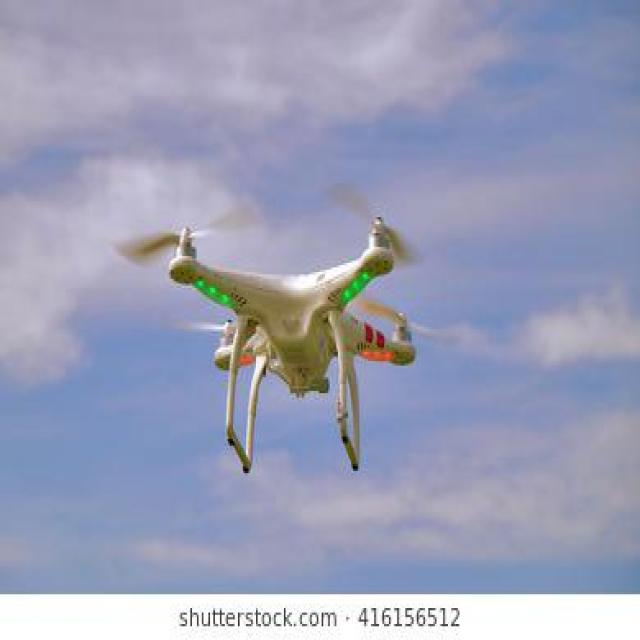drone: (83, 148, 476, 506)
